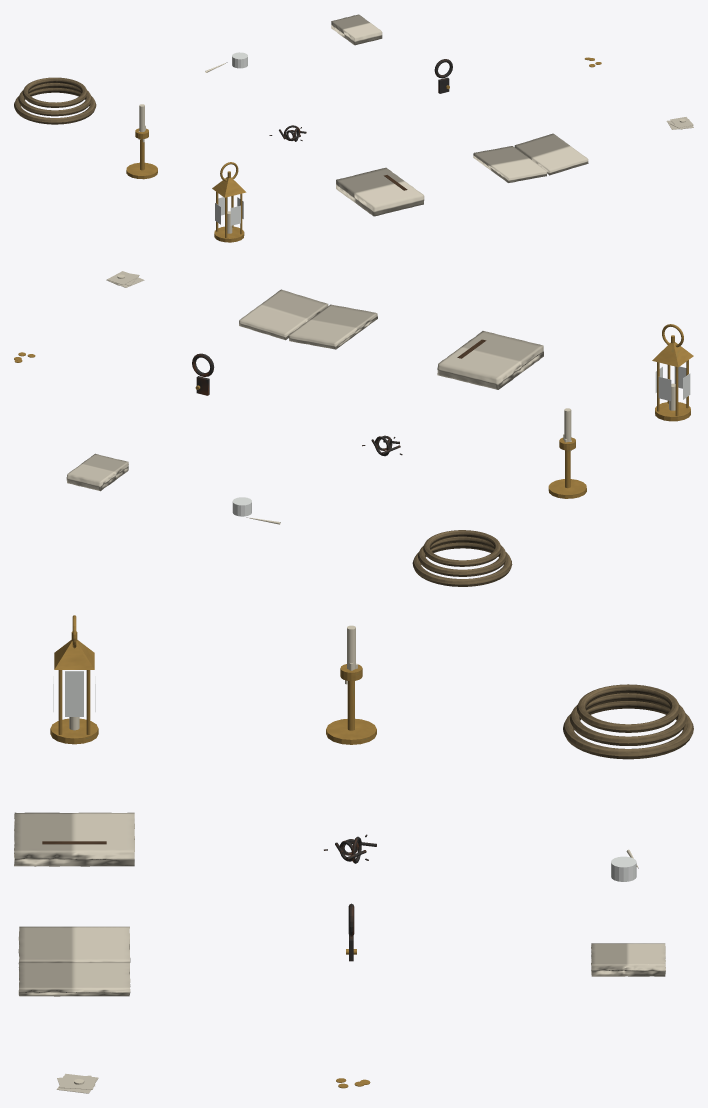
Rendered from tls_prp_030_investigation_set_v2.fbx.
The picture shows the model from 3 angles, top to bottom: view 1: azimuth 30°, elevation 25°; view 2: azimuth 150°, elevation 25°; view 3: azimuth 270°, elevation 25°; orthographic projection. The views are drawn at different scales.
Visible parts, largest first — view 1: TLS_Ledger_Pages, TLS_LedgerOpen_Pages1, TLS_LedgerOpen_Pages-1, TLS_Bible_Pages, TLS_Rope_Coil0, TLS_Rope_Coil1, TLS_Rope_Coil2, TLS_Candle_Base, TLS_Lantern_Top; view 2: TLS_Ledger_Pages, TLS_LedgerOpen_Pages1, TLS_LedgerOpen_Pages-1, TLS_Bible_Pages, TLS_Rope_Coil0, TLS_Rope_Coil1, TLS_Rope_Coil2, TLS_Candle_Base, TLS_Lantern_Top, TLS_Lantern_Base; view 3: TLS_Ledger_Pages, TLS_LedgerOpen_Pages-1, TLS_LedgerOpen_Pages1, TLS_Bible_Pages, TLS_Rope_Coil0, TLS_Rope_Coil1, TLS_Rope_Coil2, TLS_Candle_Base, TLS_Lantern_Top, TLS_Lantern_Base.
Part boxes in pixels (bbox=[...]): TLS_Ledger_Pages: bbox=[336, 167, 424, 216]; TLS_LedgerOpen_Pages1: bbox=[514, 133, 588, 175]; TLS_LedgerOpen_Pages-1: bbox=[473, 146, 547, 182]; TLS_Bible_Pages: bbox=[331, 14, 382, 45]; TLS_Rope_Coil0: bbox=[14, 88, 96, 124]; TLS_Rope_Coil1: bbox=[18, 83, 91, 116]; TLS_Rope_Coil2: bbox=[22, 77, 87, 107]; TLS_Candle_Base: bbox=[126, 162, 157, 179]; TLS_Lantern_Top: bbox=[212, 177, 246, 197]; TLS_Ledger_Pages: bbox=[437, 331, 543, 389]; TLS_LedgerOpen_Pages1: bbox=[239, 289, 328, 340]; TLS_LedgerOpen_Pages-1: bbox=[288, 304, 377, 349]; TLS_Bible_Pages: bbox=[66, 453, 128, 491]; TLS_Rope_Coil0: bbox=[412, 542, 512, 586]; TLS_Rope_Coil1: bbox=[418, 536, 506, 576]; TLS_Rope_Coil2: bbox=[423, 530, 501, 566]; TLS_Candle_Base: bbox=[548, 479, 586, 498]; TLS_Lantern_Top: bbox=[652, 342, 693, 367]; TLS_Lantern_Base: bbox=[655, 402, 690, 421]; TLS_Ledger_Pages: bbox=[14, 812, 134, 866]; TLS_LedgerOpen_Pages-1: bbox=[18, 926, 130, 967]; TLS_LedgerOpen_Pages1: bbox=[18, 962, 130, 996]; TLS_Bible_Pages: bbox=[591, 943, 665, 976]; TLS_Rope_Coil0: bbox=[563, 701, 693, 759]; TLS_Rope_Coil1: bbox=[570, 693, 686, 745]; TLS_Rope_Coil2: bbox=[576, 684, 679, 732]; TLS_Candle_Base: bbox=[326, 718, 376, 744]; TLS_Lantern_Top: bbox=[54, 640, 94, 669]; TLS_Lantern_Base: bbox=[50, 718, 98, 744].
Bounding box in the file's own units: 199 × 30.7 × 147.
Materials: 8 (5 with a texture image).
